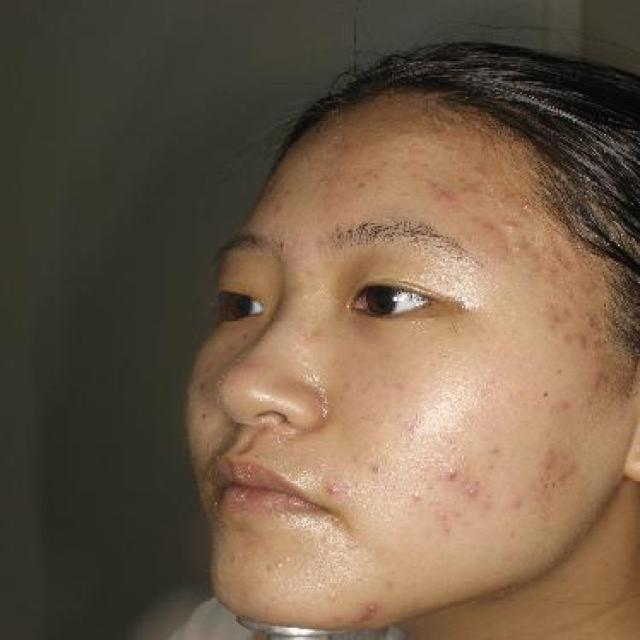Acne: (494, 212, 528, 237)
Whiteheads: (313, 477, 356, 500), (460, 478, 486, 508), (433, 462, 460, 489), (358, 597, 387, 620)
